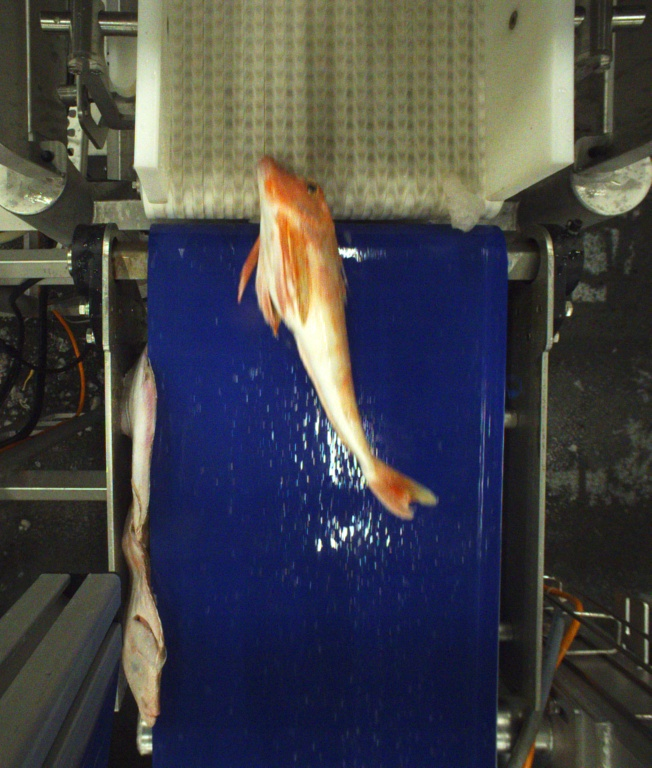GUU: (237, 154, 438, 519)
